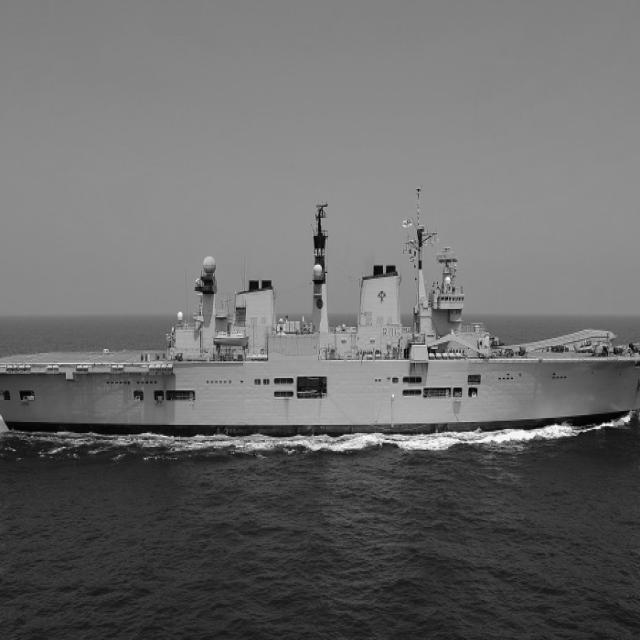Portanaves: (1, 185, 640, 469)
